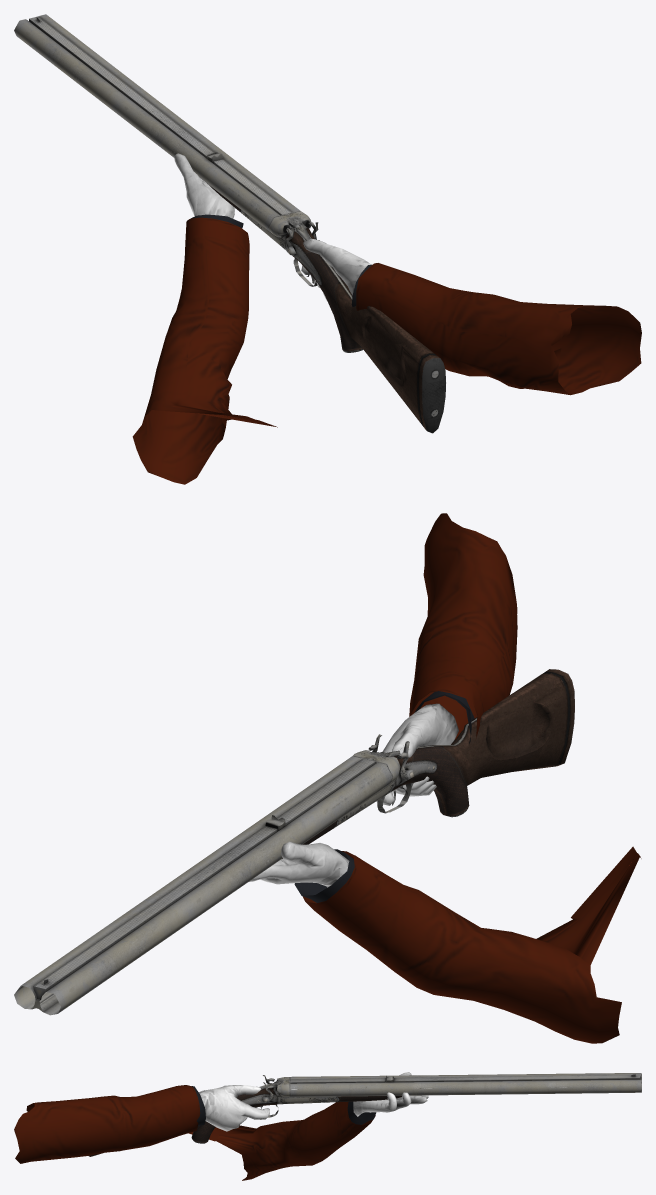
File: frame_16.obj
The picture shows the model from 3 angles, top to bottom: view 1: azimuth 30°, elevation 25°; view 2: azimuth 150°, elevation 25°; view 3: azimuth 270°, elevation 25°; orthographic projection. The views are drawn at different scales.
Visible parts, largest first — view 1: PlayerModelMerged.001_PlayerModelMerged, double_-_barreled_shotgun_L_double_-_barreled_shotgun_LP_к.001; view 2: PlayerModelMerged.001_PlayerModelMerged, double_-_barreled_shotgun_L_double_-_barreled_shotgun_LP_к.001; view 3: PlayerModelMerged.001_PlayerModelMerged, double_-_barreled_shotgun_L_double_-_barreled_shotgun_LP_к.001.
Part boxes in pixels (<box>): PlayerModelMerged.001_PlayerModelMerged: <box>132,153,641,484</box>; double_-_barreled_shotgun_L_double_-_barreled_shotgun_LP_к.001: <box>14,14,445,433</box>; PlayerModelMerged.001_PlayerModelMerged: <box>249,513,641,1043</box>; double_-_barreled_shotgun_L_double_-_barreled_shotgun_LP_к.001: <box>14,669,574,1015</box>; PlayerModelMerged.001_PlayerModelMerged: <box>14,1072,428,1180</box>; double_-_barreled_shotgun_L_double_-_barreled_shotgun_LP_к.001: <box>89,1073,641,1156</box>.
Bounding box in the file's own units: 0.8331 × 0.5517 × 2.
